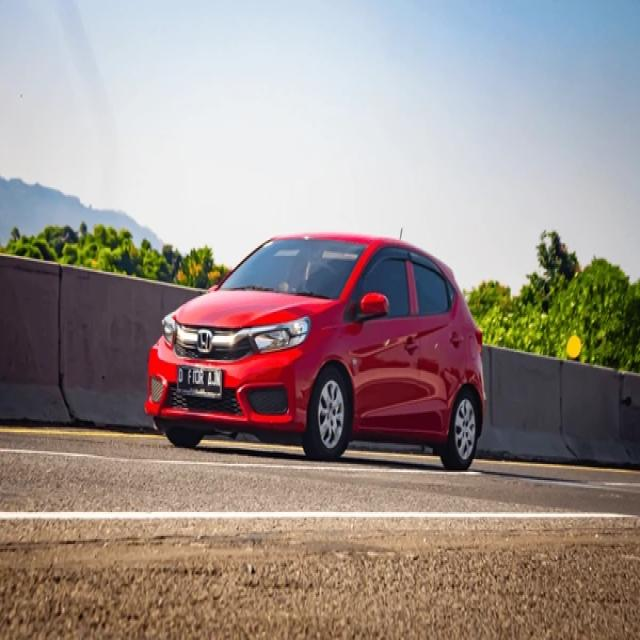honda: (195, 326, 218, 357)
